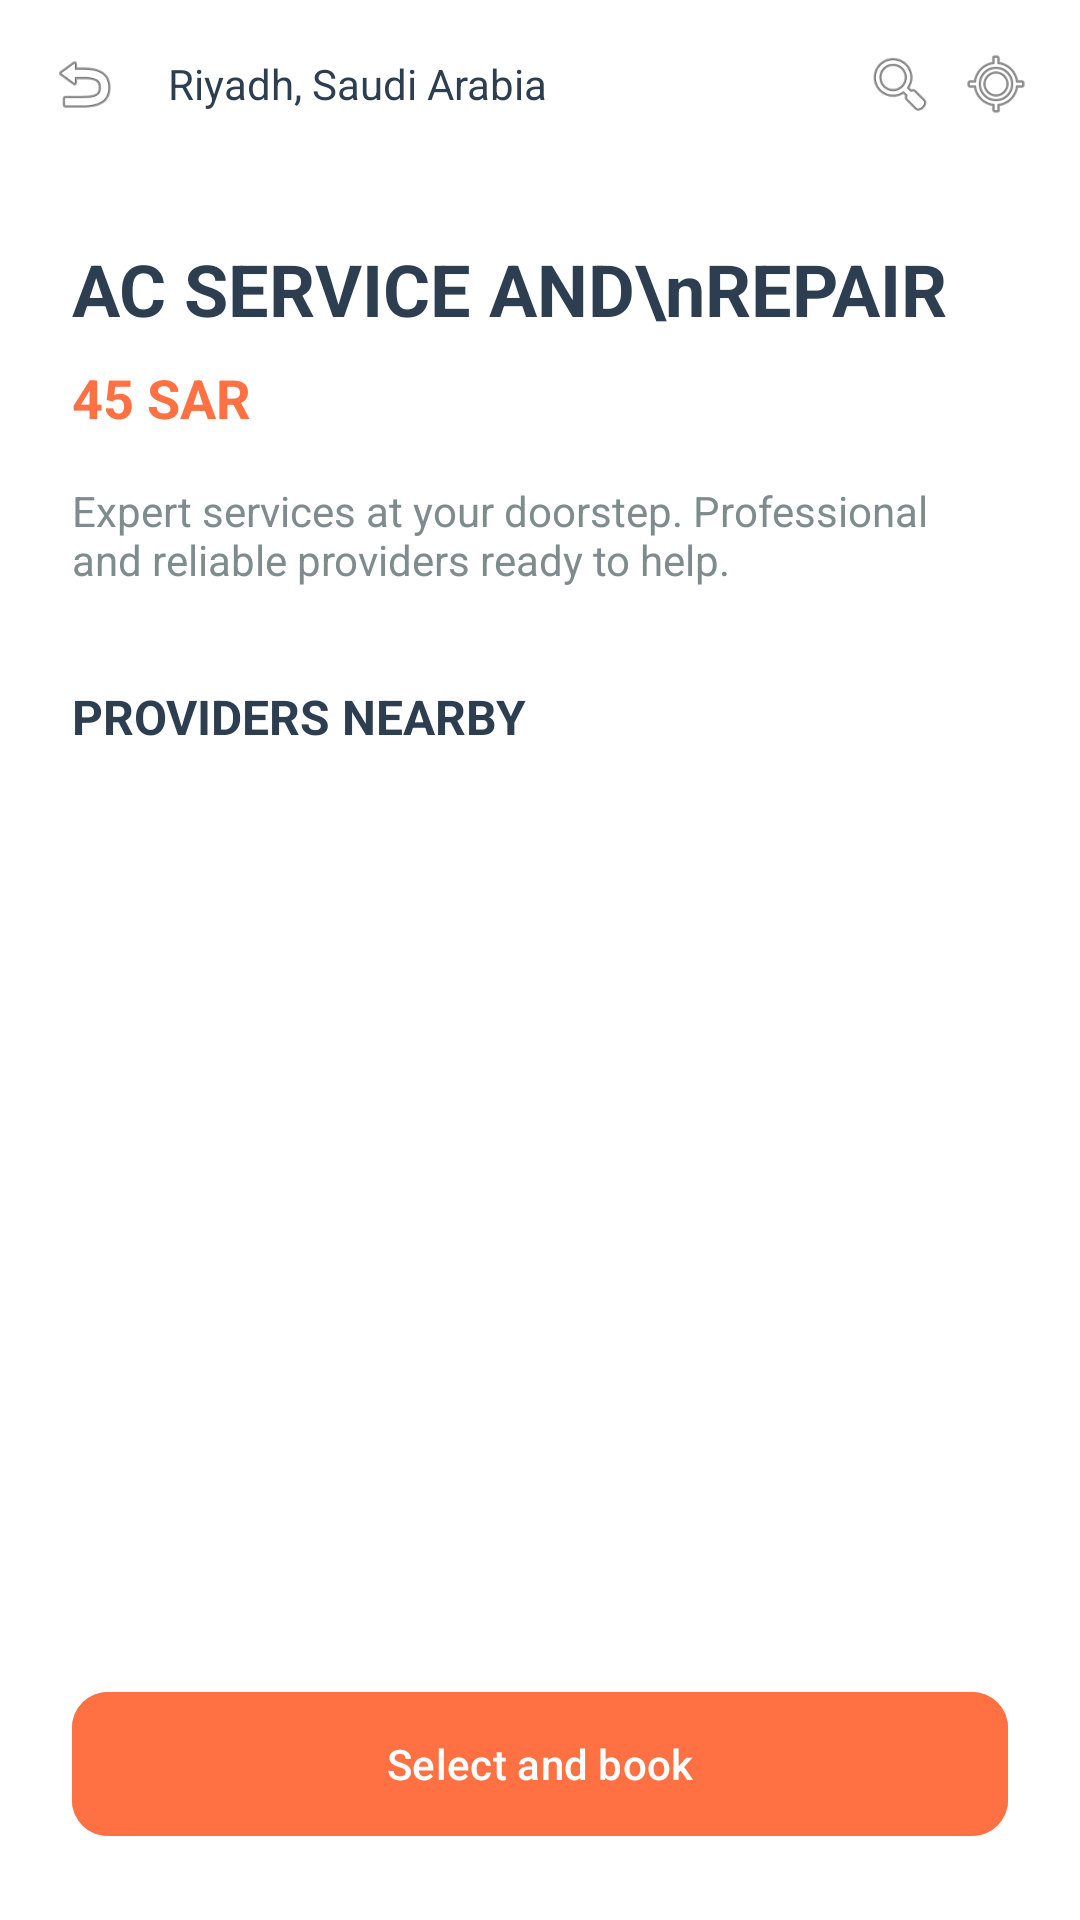

Point at icon controls on the screen. Image size 1080w x 1920h, points as (x,y).
mylocation: (996,84)
revert: (85,84)
search: (900,84)
